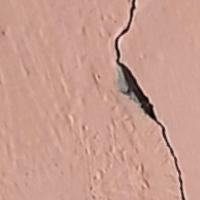crack: (108, 0, 199, 199)
